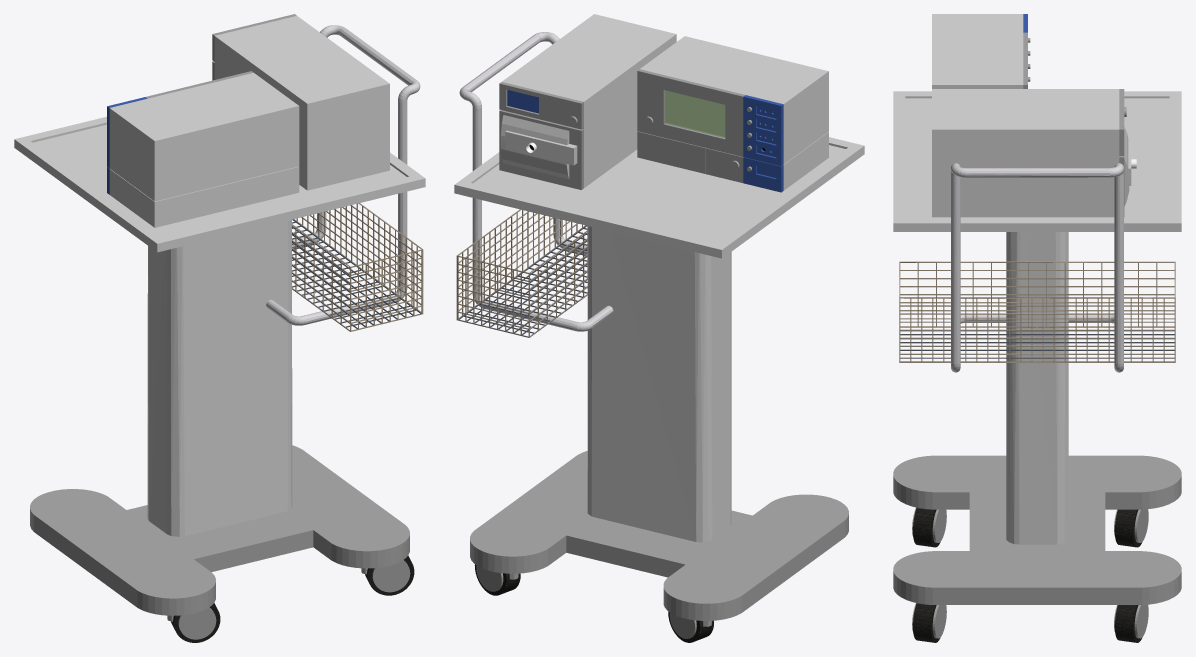
The model's file is HF-Chirurgie.fbx.
3 renders of one model, left to right at view 1: azimuth 30°, elevation 25°; view 2: azimuth 150°, elevation 25°; view 3: azimuth 270°, elevation 25°, orthographic.
Visible parts, largest first — view 1: Kunststoff PE, weiss, Farbe, grau, Metall Stahl, poliert, Stahl, rostfrei, Metall Stahl, matt, Asphalt; view 2: Kunststoff PE, weiss, Farbe, grau, Metall Stahl, poliert, Stahl, rostfrei, Farbe, blau, Metall Stahl, matt, Glas Profilit, Asphalt; view 3: Kunststoff PE, weiss, Farbe, grau, Metall Stahl, poliert, Stahl, rostfrei, Asphalt, Metall Stahl, matt.
Part boxes in pixels (box(x1,y1,x2,y2)): Kunststoff PE, weiss: box(14, 16, 425, 536); Farbe, grau: box(30, 14, 410, 639); Metall Stahl, poliert: box(292, 203, 423, 331); Stahl, rostfrei: box(266, 25, 420, 325); Metall Stahl, matt: box(292, 219, 421, 328); Asphalt: box(171, 555, 414, 642); Kunststoff PE, weiss: box(454, 14, 864, 542); Farbe, grau: box(470, 69, 848, 638); Metall Stahl, poliert: box(456, 209, 587, 337); Stahl, rostfrei: box(459, 32, 613, 331); Farbe, blau: box(507, 90, 783, 192); Metall Stahl, matt: box(458, 225, 587, 337); Glas Profilit: box(665, 90, 725, 137); Asphalt: box(474, 564, 713, 642); Kunststoff PE, weiss: box(893, 14, 1181, 544); Farbe, grau: box(893, 32, 1181, 638); Metall Stahl, poliert: box(899, 261, 1175, 362); Stahl, rostfrei: box(951, 163, 1123, 372); Asphalt: box(913, 507, 1142, 642); Metall Stahl, matt: box(900, 327, 1174, 361).
Size of the model in its own units: 71.95 by 60 by 117.
Materials: 10 (3 with a texture image).
